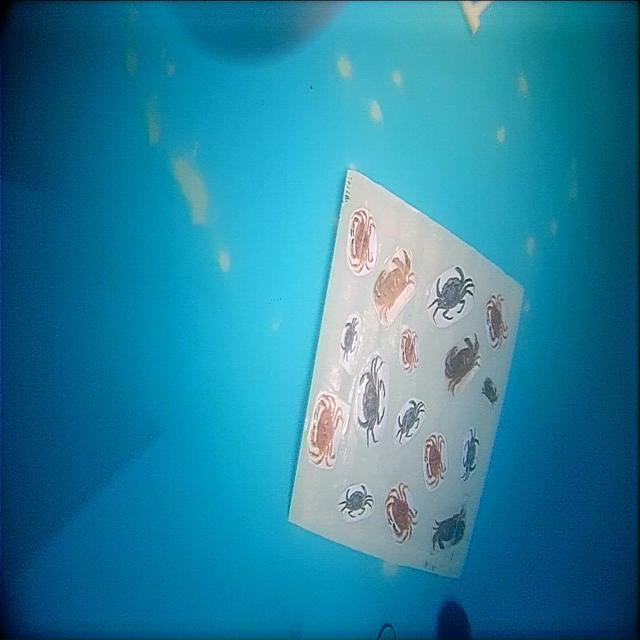GreenCrab: (357, 356, 385, 447), (428, 267, 474, 319), (396, 400, 425, 444), (339, 485, 373, 517), (341, 318, 357, 360)
